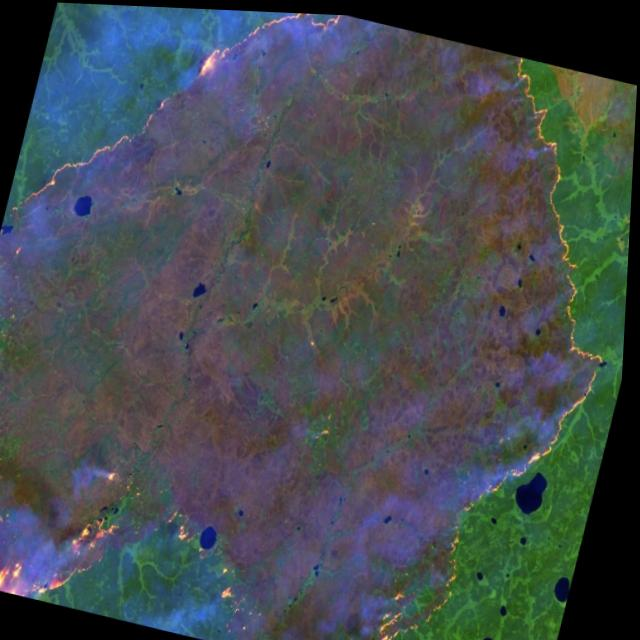fire: (366, 45, 639, 640), (6, 1, 356, 296), (0, 383, 336, 640)
